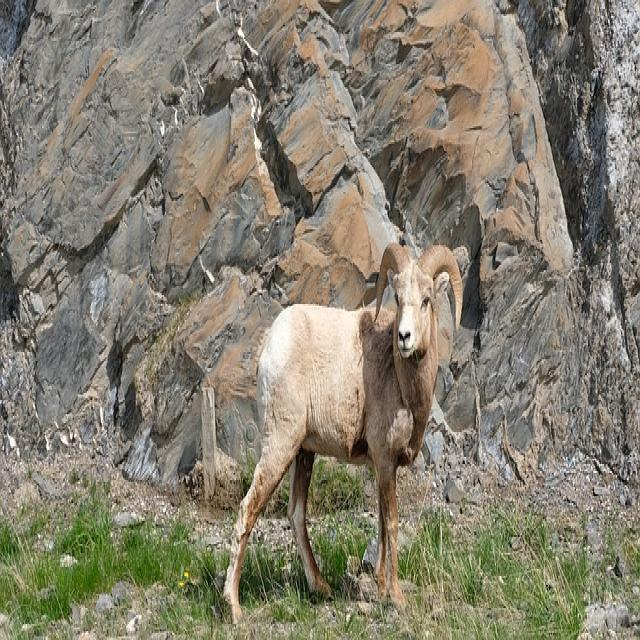goat: (223, 245, 464, 620)
